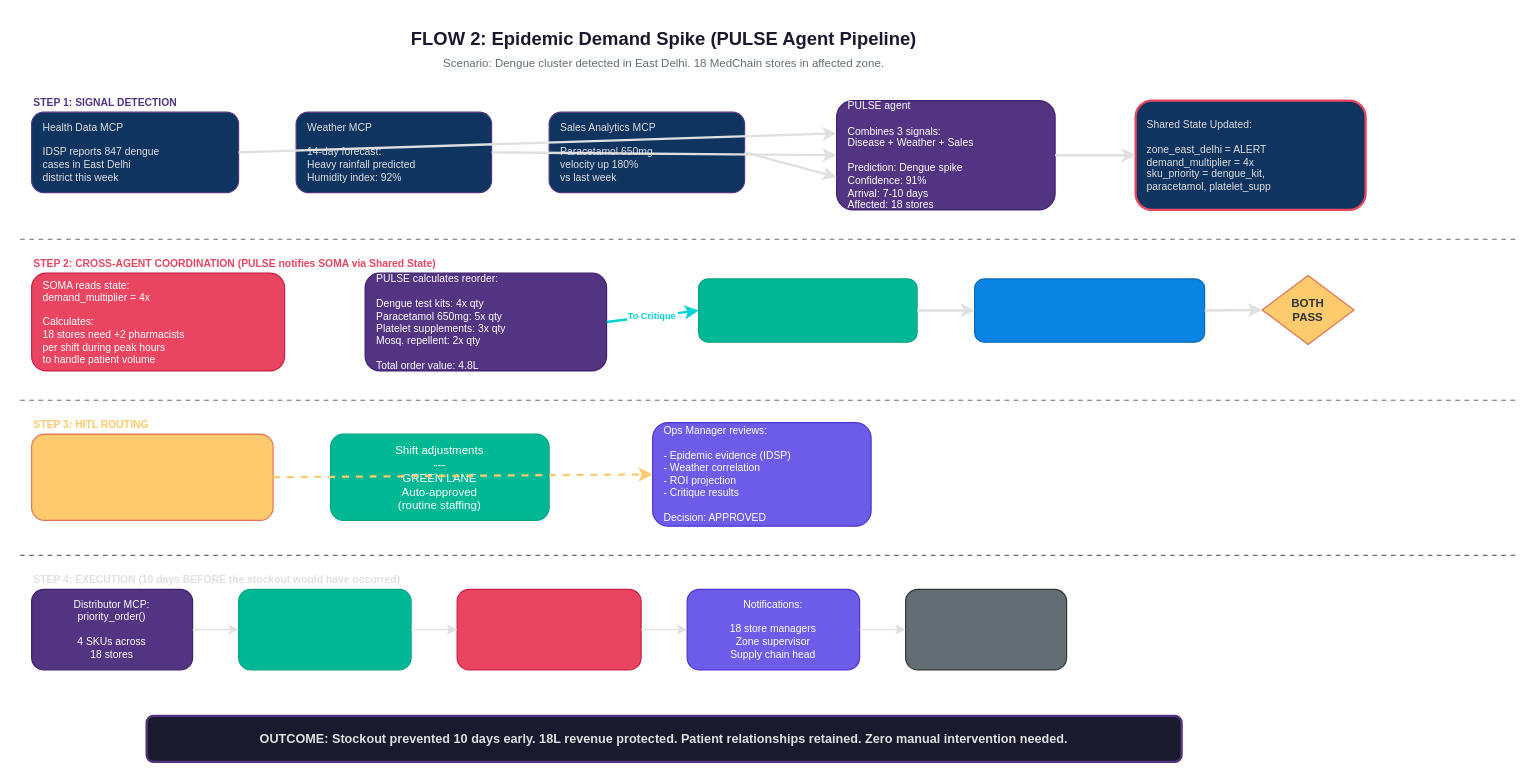
Some shapes in this 1535 by 782 pixel diagram are drawn without their labels. The shapes that lost their labels are listed below. From the top down, each one's box as (x1, y1, x2, y2) in pixels, then its label:
(697, 278, 917, 342): VIGIL: Reorder qty within emergency procurement rules PASS
(973, 278, 1205, 342): AUDIT: 4.8L order cost vs 18L projected revenue protect ROI = 3.75x PASS
(30, 433, 273, 520): Reorder = 4.8L Multiplier = 4x-5x --- YELLOW LANE Needs manager approval
(237, 588, 411, 670): HRMS MCP: assign_shift() +2 pharmacists per shift x 18 stores
(456, 588, 641, 670): ERP MCP: allocate_shelf_space() Dengue category Priority placement
(904, 588, 1067, 670): Audit Log: Epidemic response logged with full evidence chain
